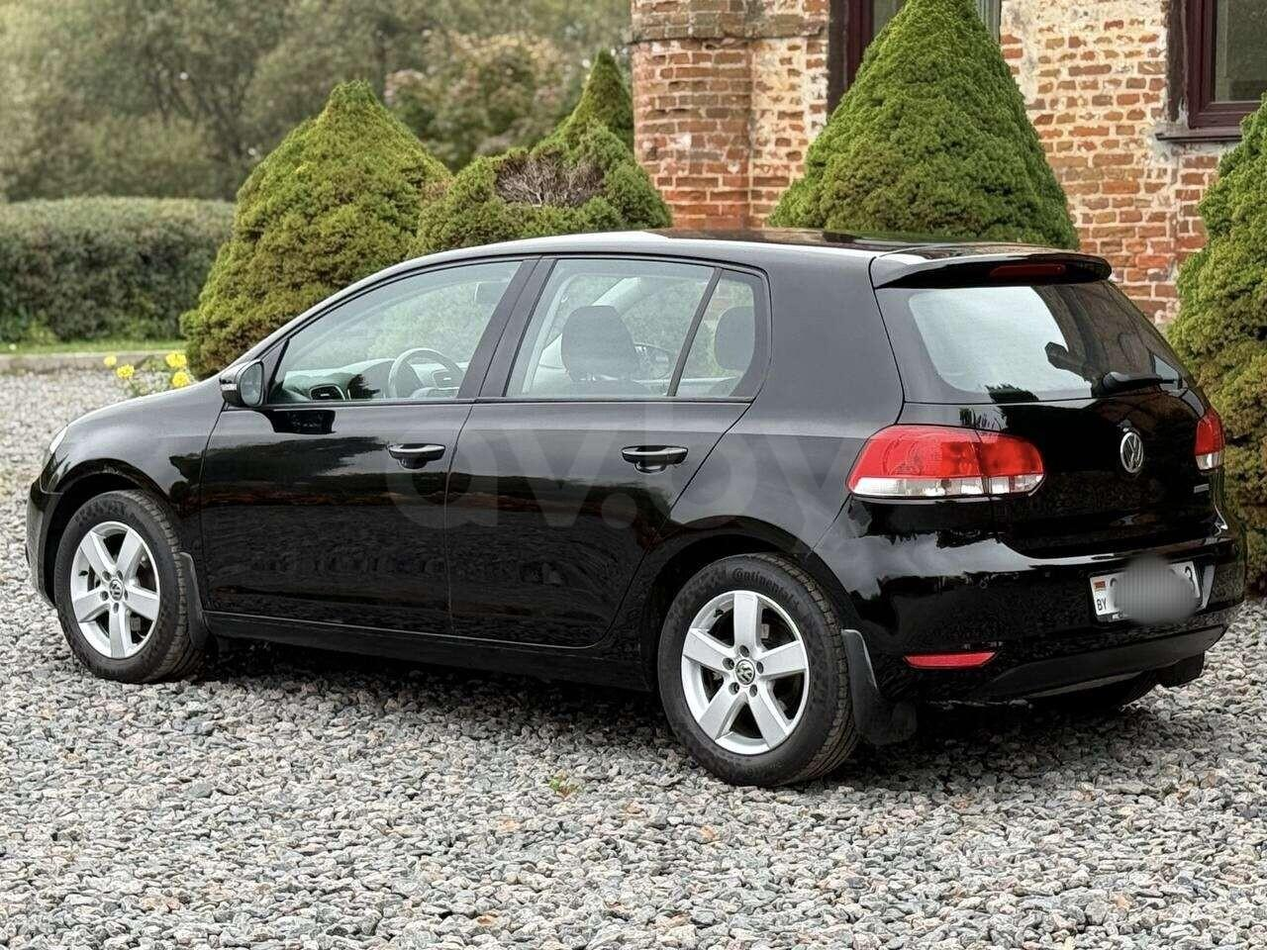Golf_2008-2013: (25, 221, 1241, 785)
